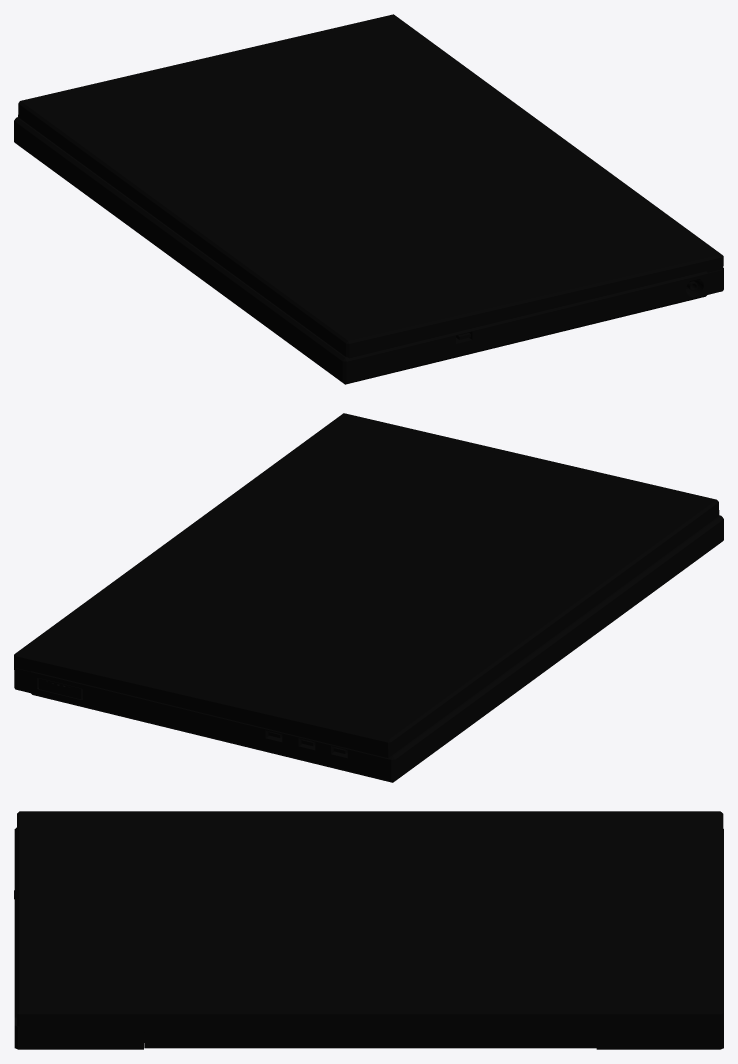
The model's file is Laptop (2).fbx.
The picture shows the model from 3 angles, top to bottom: view 1: azimuth 30°, elevation 25°; view 2: azimuth 150°, elevation 25°; view 3: azimuth 270°, elevation 25°; orthographic projection. The views are drawn at different scales.
Parts seen in each view (by area): view 1: Plane.001, Plane; view 2: Plane.001, Plane; view 3: Plane.001, Plane.
Boxes of the visible parts, bbox=[...] form: Plane.001: bbox=[18, 14, 723, 358]; Plane: bbox=[14, 117, 723, 384]; Plane.001: bbox=[14, 413, 719, 757]; Plane: bbox=[14, 515, 723, 782]; Plane.001: bbox=[17, 811, 723, 1032]; Plane: bbox=[14, 827, 723, 1049].
Bounding box in the file's own units: 516 × 54.45 × 773.
2 materials, 1 textured.
